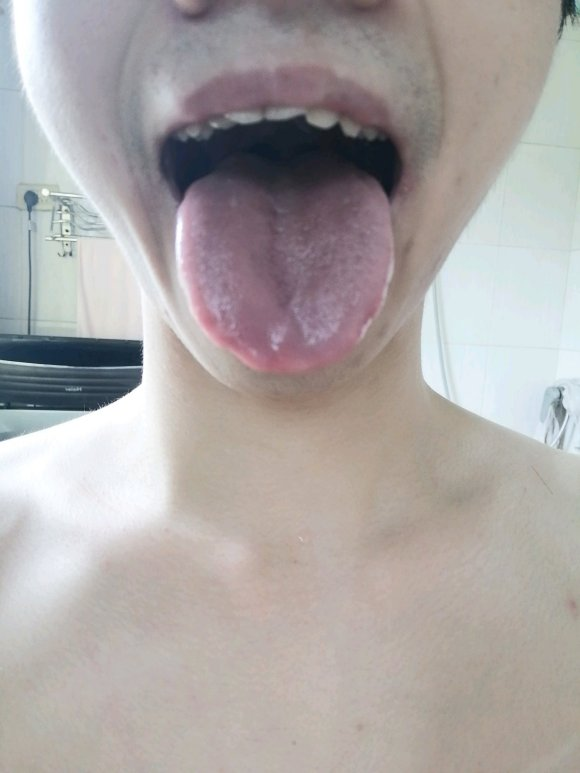baitaishe: (176, 149, 393, 372)
